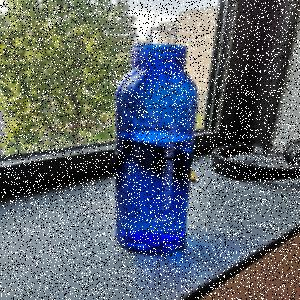Plastic-bottle: (115, 45, 201, 258)
